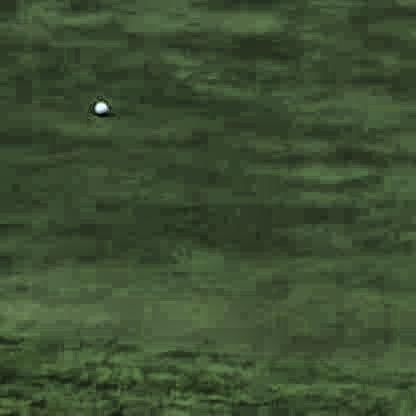golfball: (91, 97, 107, 115)
